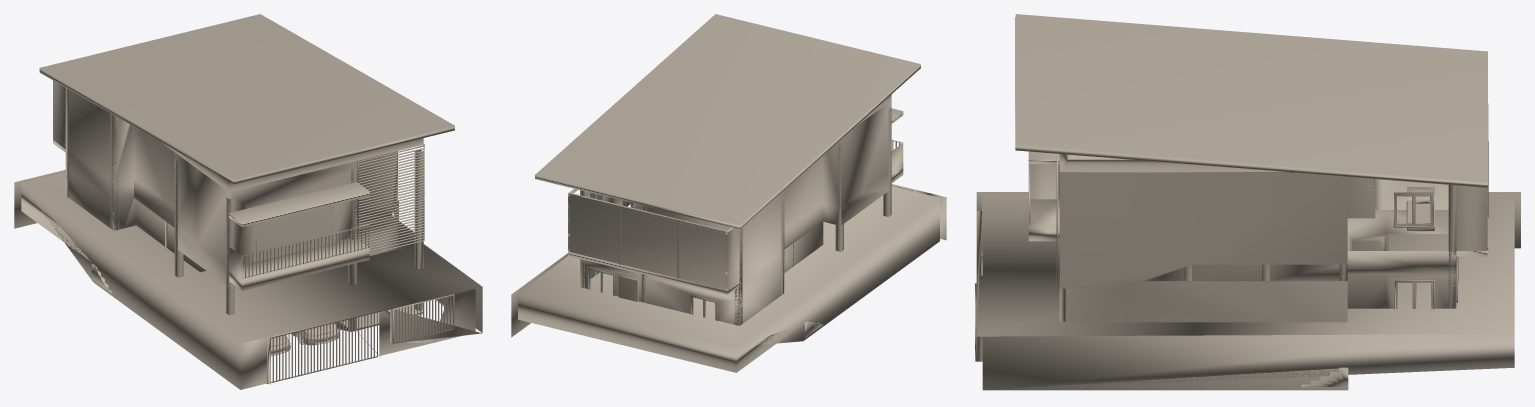
The model's file is modern-rustic-villa.glb.
3 renders of one model, left to right at view 1: azimuth 30°, elevation 25°; view 2: azimuth 150°, elevation 25°; view 3: azimuth 270°, elevation 25°, orthographic. The views are drawn at different scales.
Size of the model in its own units: 2.2 by 1.71 by 3.51.
